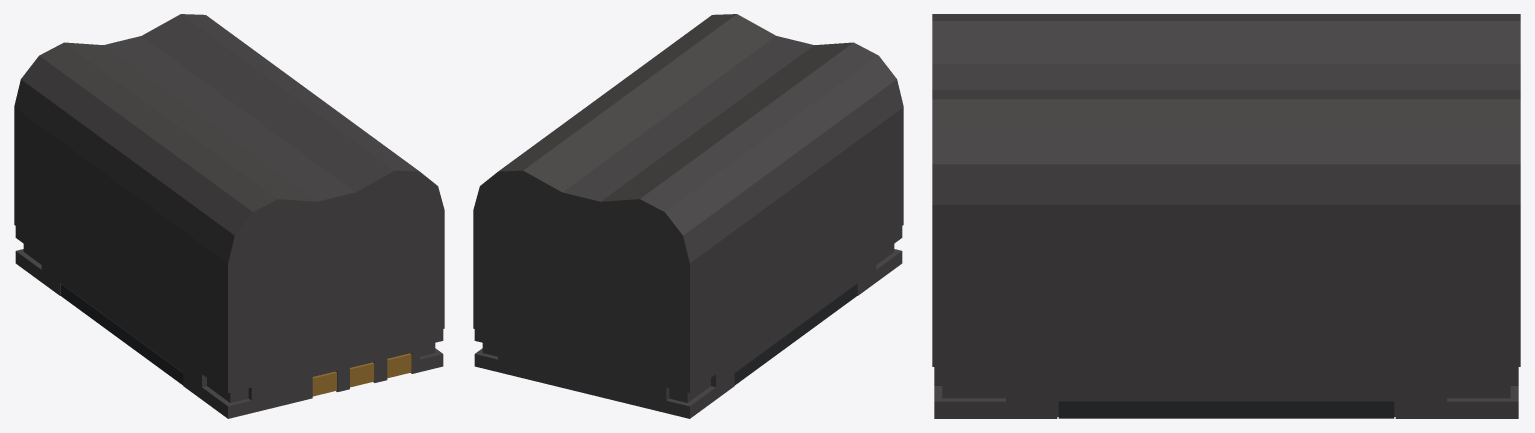
Rendered from SM_Accumulator_Battery.glb.
3 views of the same model, side by side, from view 1: azimuth 30°, elevation 25°; view 2: azimuth 150°, elevation 25°; view 3: azimuth 270°, elevation 25° (orthographic). The views are drawn at different scales.
Visible parts, largest first — view 1: SM_Accumulator_Battery; view 2: SM_Accumulator_Battery; view 3: SM_Accumulator_Battery.
Part boxes in pixels (x1,y1,x2,y2): SM_Accumulator_Battery: [14, 14, 444, 418]; SM_Accumulator_Battery: [473, 14, 903, 418]; SM_Accumulator_Battery: [932, 14, 1520, 418].
Size of the model in its own units: 0.056 by 0.0515 by 0.0958.
1 material, 1 textured.
